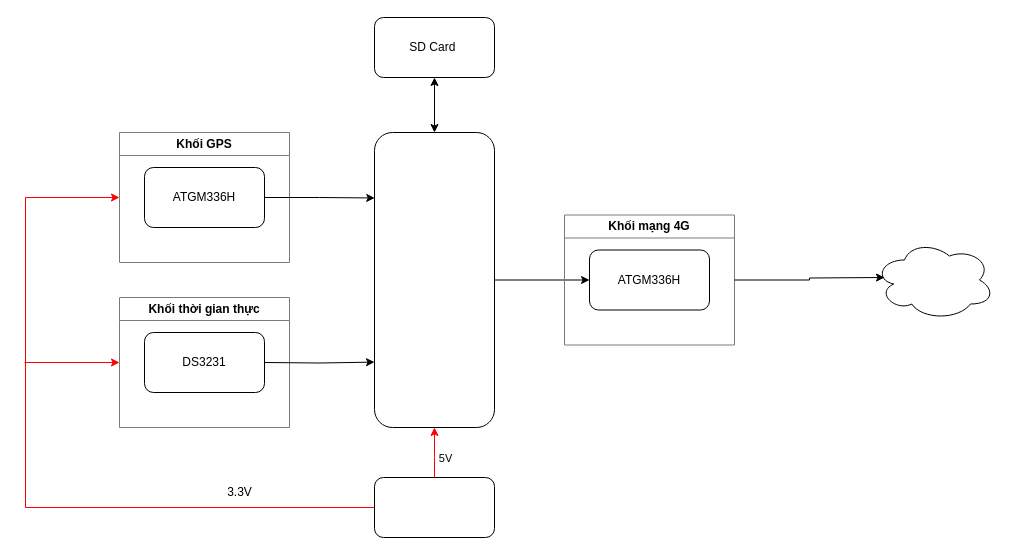
Some shapes in this 1012 by 555 pixel diagram are drawn without their labels. Each missing label, with the centre of its shape:
ESP32 (Vi xử lý): the point at 434,280
Nguồn 5V: the point at 434,507
Thingsboard: the point at 934,279
